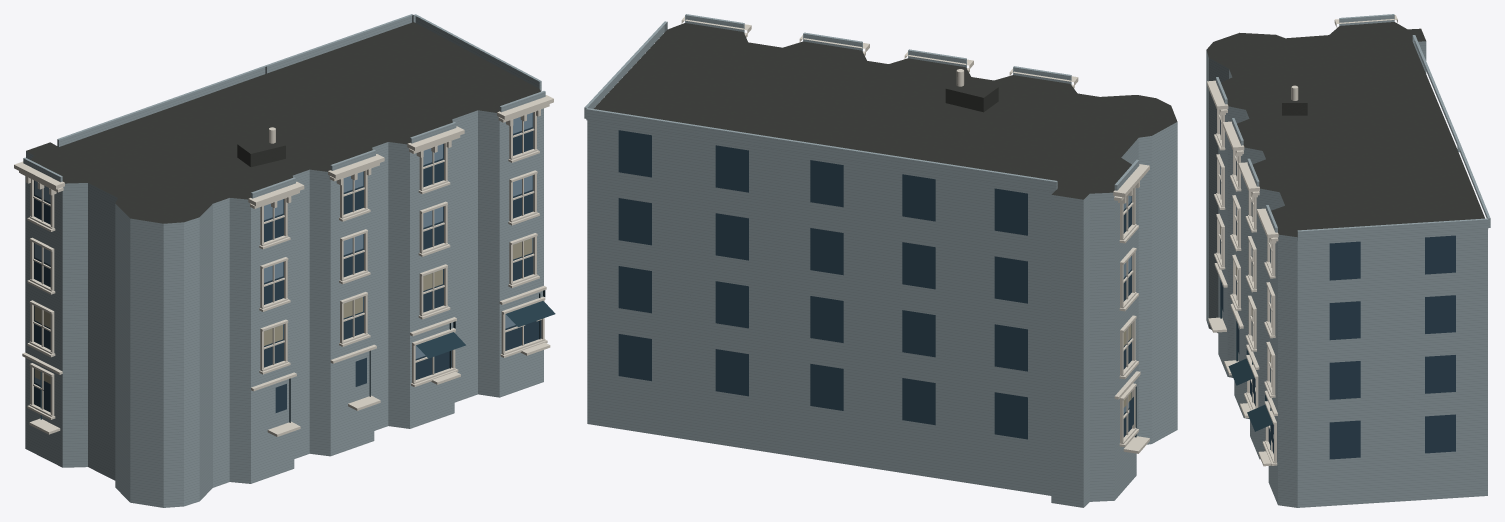
3 views of the same model, side by side, from view 1: azimuth 30°, elevation 25°; view 2: azimuth 150°, elevation 25°; view 3: azimuth 270°, elevation 25° (orthographic). The views are drawn at different scales.
Visible parts, largest first — view 1: Footprint 0 / surface 2, Footprint 0 / surface 1, Cornices and window frames, Inset glazing, Facade bay volumes, Sky reflection panels, Storefronts and doors, Interior blind variation; view 2: Footprint 0 / surface 2, Footprint 0 / surface 1, Inset glazing, Facade bay volumes, Cornices and window frames; view 3: Footprint 0 / surface 2, Footprint 0 / surface 1, Inset glazing, Cornices and window frames, Facade bay volumes, Storefronts and doors, Inferred rooftop service enclosure / surface 3, Inferred rooftop service enclosure / surface 1.
Part boxes in pixels (x1=…): Footprint 0 / surface 2: x1=25, y1=108, x2=543, y2=507; Footprint 0 / surface 1: x1=26, y1=22, x2=540, y2=223; Cornices and window frames: x1=14, y1=95, x2=553, y2=436; Inset glazing: x1=34, y1=112, x2=541, y2=412; Facade bay volumes: x1=23, y1=14, x2=545, y2=198; Sky reflection panels: x1=34, y1=112, x2=532, y2=385; Storefronts and doors: x1=40, y1=290, x2=555, y2=422; Interior blind variation: x1=34, y1=238, x2=532, y2=383; Footprint 0 / surface 2: x1=587, y1=120, x2=1177, y2=507; Footprint 0 / surface 1: x1=594, y1=23, x2=1177, y2=199; Inset glazing: x1=618, y1=130, x2=1133, y2=439; Facade bay volumes: x1=584, y1=14, x2=1139, y2=192; Cornices and window frames: x1=681, y1=16, x2=1149, y2=453; Footprint 0 / surface 2: x1=1206, y1=41, x2=1487, y2=507; Footprint 0 / surface 1: x1=1206, y1=22, x2=1484, y2=237; Inset glazing: x1=1220, y1=120, x2=1455, y2=459; Cornices and window frames: x1=1207, y1=15, x2=1397, y2=466; Facade bay volumes: x1=1216, y1=14, x2=1490, y2=241; Storefronts and doors: x1=1220, y1=280, x2=1272, y2=449; Inferred rooftop service enclosure / surface 3: x1=1282, y1=86, x2=1307, y2=102; Inferred rooftop service enclosure / surface 1: x1=1282, y1=103, x2=1307, y2=115.
Bounding box in the file's own units: 24.33 × 15.18 × 13.2.
